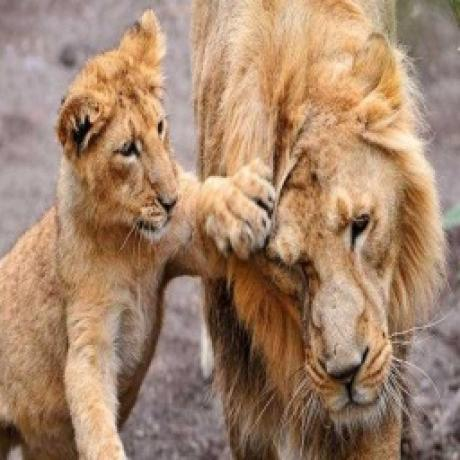Lion: (0, 5, 273, 460), (195, 0, 452, 460)
